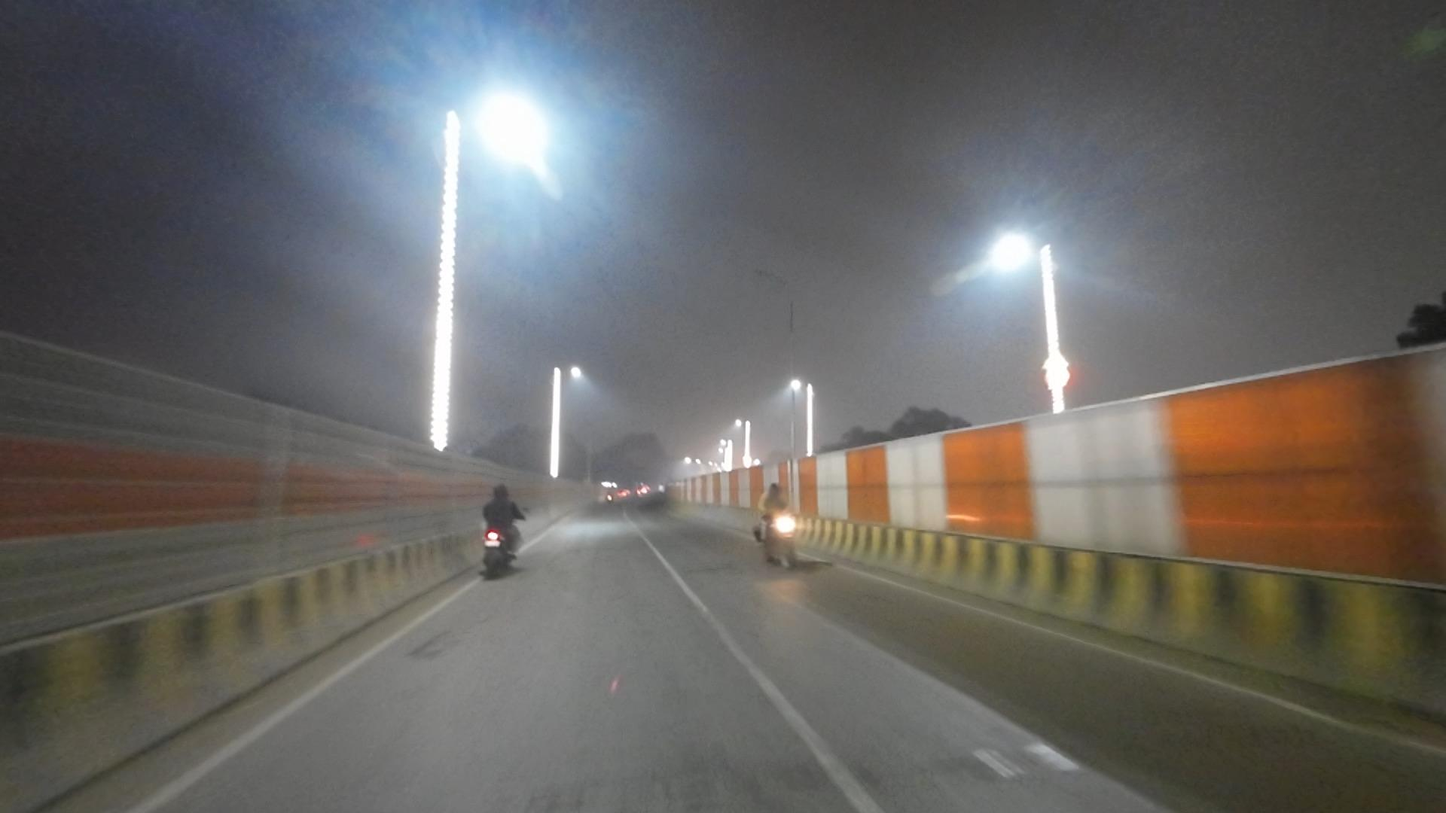streetlight: (747, 266, 789, 283)
